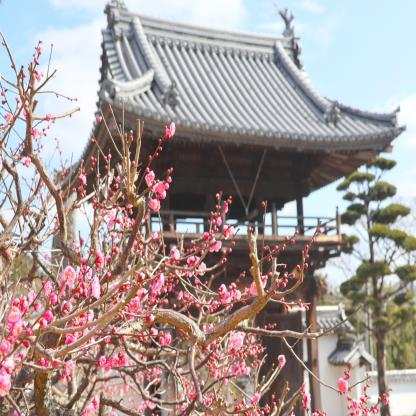Ume: (0, 26, 395, 416)
